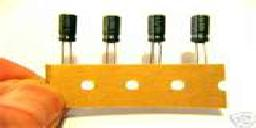Electrolytic-Capacitor: (142, 13, 170, 67), (186, 13, 213, 65), (99, 13, 123, 65), (55, 11, 78, 63)
